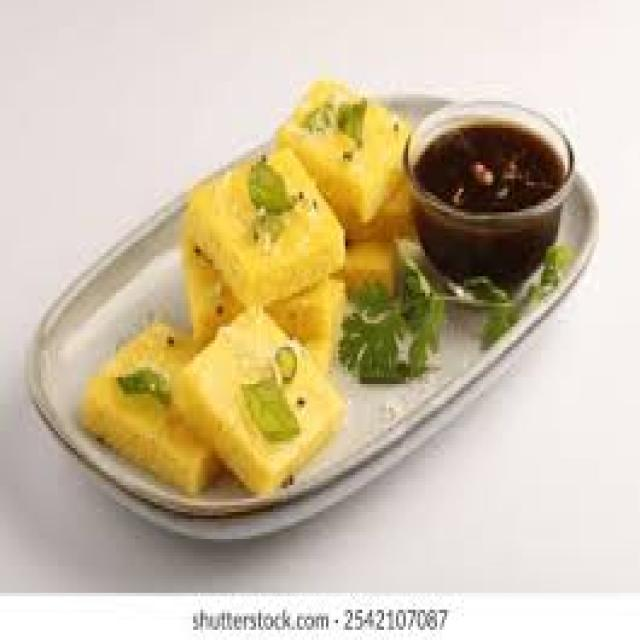DHOKLA: (173, 303, 339, 500), (181, 147, 347, 309), (80, 318, 223, 499), (278, 73, 414, 232), (271, 284, 344, 369), (185, 239, 241, 345)
